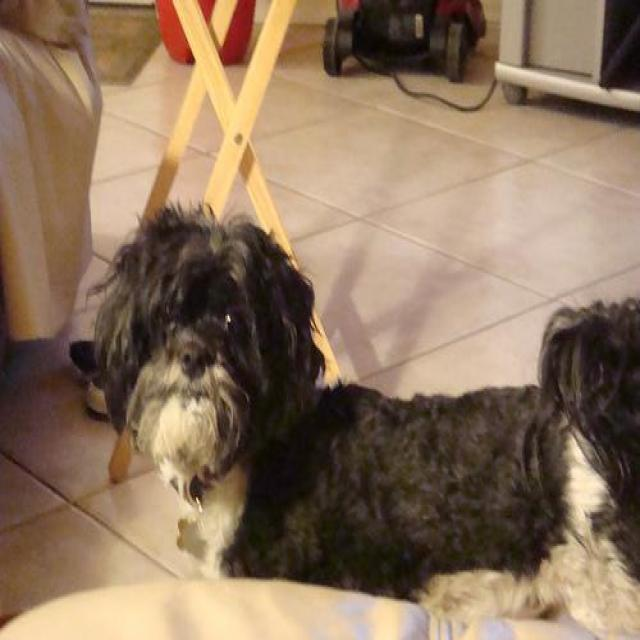shih_tzu: (78, 203, 639, 638)
